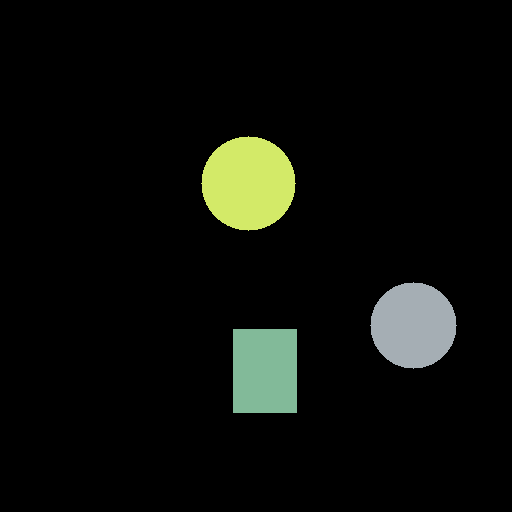circle: (201, 136, 295, 230), (370, 282, 456, 368)
rectangle: (233, 329, 296, 412)
